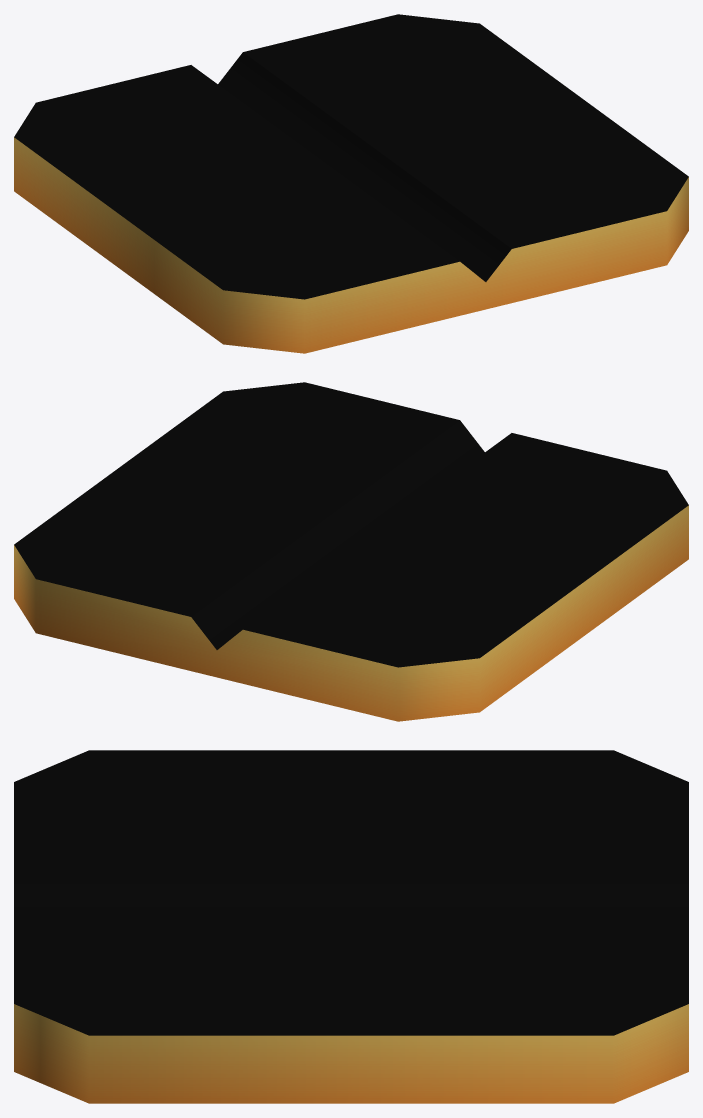
The model's file is debris-plate-a.glb.
3 renders of one model, top to bottom at view 1: azimuth 30°, elevation 25°; view 2: azimuth 150°, elevation 25°; view 3: azimuth 270°, elevation 25°, orthographic. The views are drawn at different scales.
Parts seen in each view (by area): view 1: debris-plate-a; view 2: debris-plate-a; view 3: debris-plate-a.
Boxes of the visible parts, left/top/right/bottom form: debris-plate-a: left=14, top=14, right=688, bottom=353; debris-plate-a: left=14, top=382, right=688, bottom=721; debris-plate-a: left=14, top=750, right=688, bottom=1103.
Bounding box in the file's own units: 0.9 × 0.1 × 0.9.
